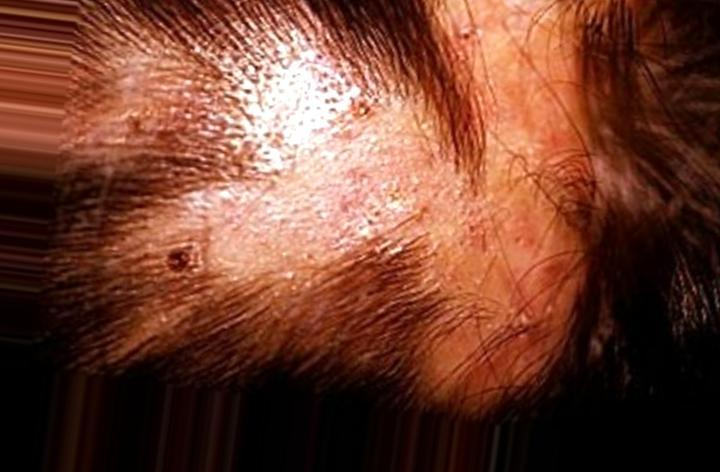Folliculitis: (228, 85, 535, 344)
